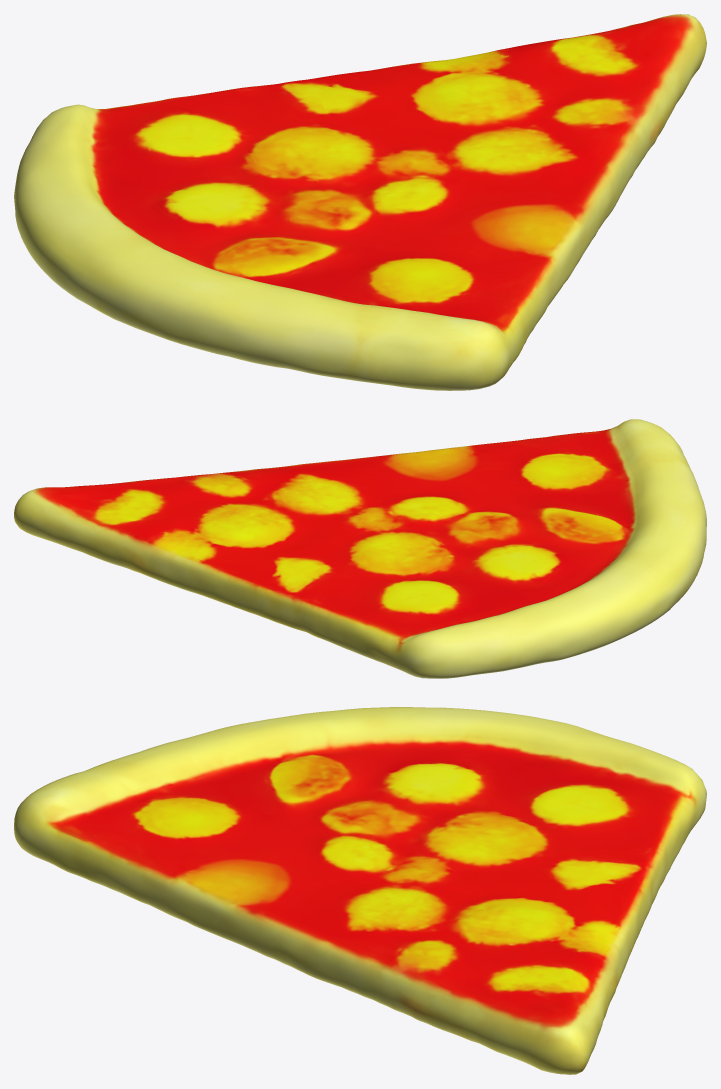
File: TestFile.glb
3 renders of one model, top to bottom at view 1: azimuth 30°, elevation 25°; view 2: azimuth 150°, elevation 25°; view 3: azimuth 270°, elevation 25°, orthographic. The views are drawn at different scales.
Parts seen in each view (by area): view 1: Mesh; view 2: Mesh; view 3: Mesh.
Boxes of the visible parts, x1,y1,x2,y2 form: Mesh: (14, 14, 706, 390); Mesh: (14, 419, 706, 678); Mesh: (14, 707, 706, 1074).
Size of the model in its own units: 0.9218 by 0.0703 by 0.7993.
1 material, 1 textured.
